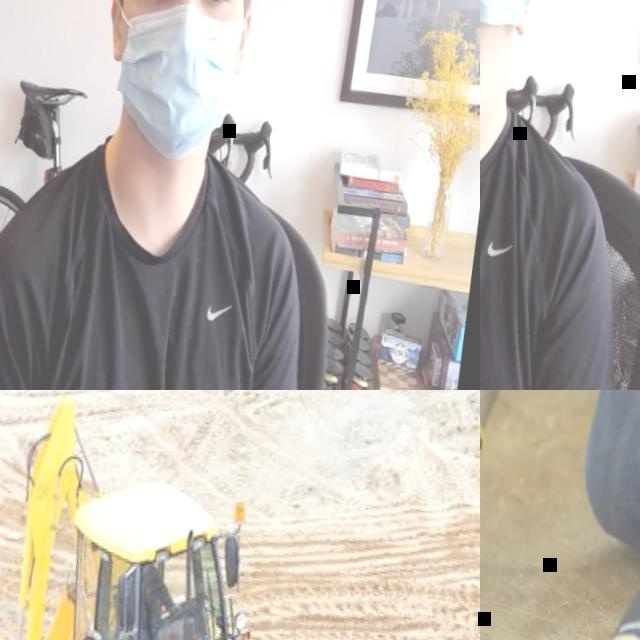Mask: (100, 0, 247, 172)
NO-Safety Vest: (0, 139, 271, 390), (480, 96, 580, 390)
Person: (0, 0, 378, 390), (480, 0, 640, 390), (480, 390, 640, 640), (126, 566, 183, 638)
machinery: (0, 390, 464, 640)
